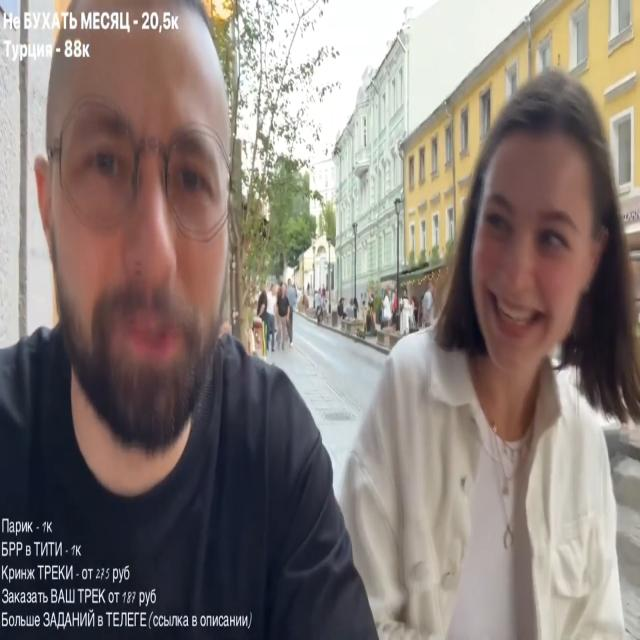Person: (0, 6, 366, 640), (343, 75, 640, 640), (256, 278, 280, 352), (274, 278, 292, 349)
